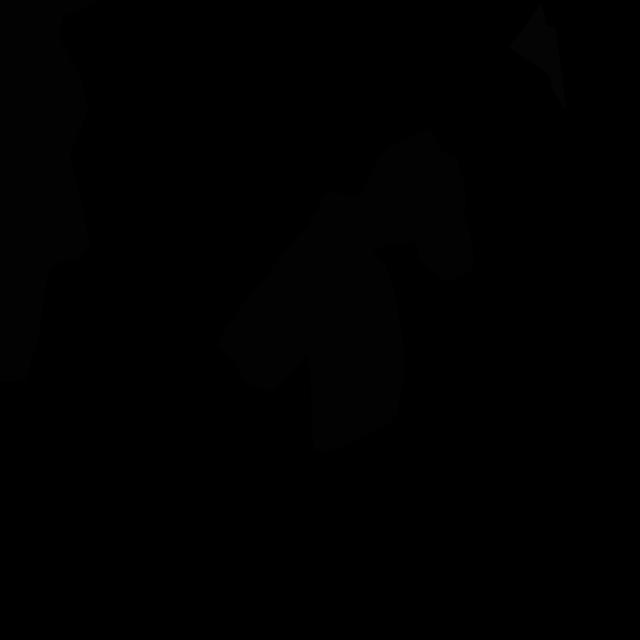cardboard: (217, 227, 405, 451), (306, 128, 474, 282)
soft_plastic: (509, 3, 567, 112)
